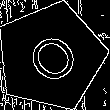O_SE: (17, 23, 85, 90)
